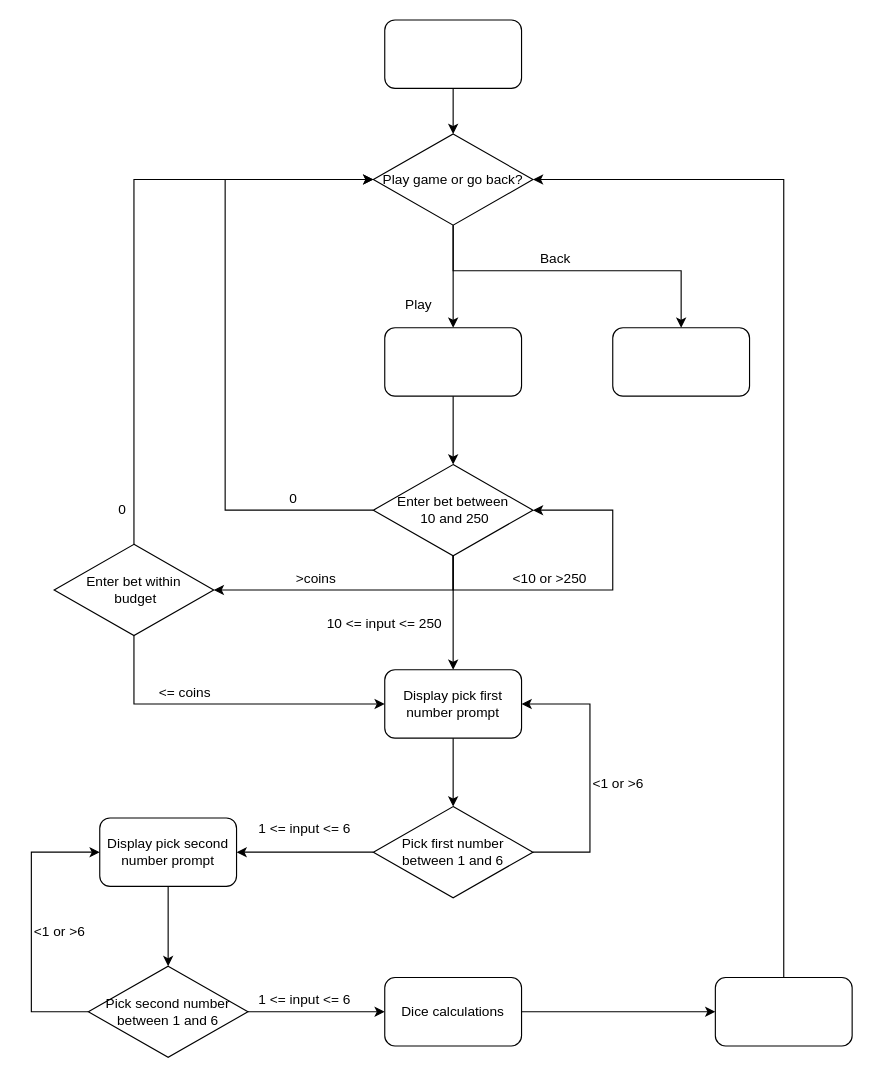
This 872x1077 diagram has some shape labels left out. Here are the shapes that lost their labels. From the top down, the centre of each, then its label:
point 453,53: Select Dice Game
point 453,361: Display Bet Prompt
point 681,361: Return to Casino Menu
point 783,1011: Display Results
